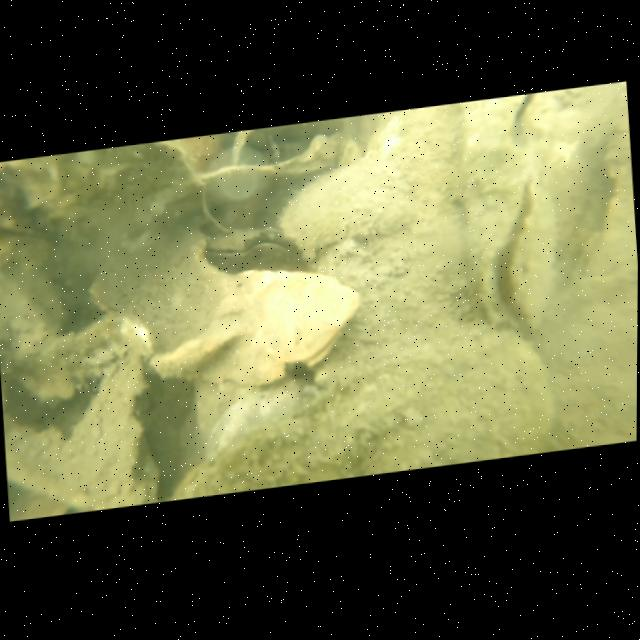Oyster-Closed: (145, 258, 366, 403)
Oyster-Indeterminate: (161, 319, 556, 501), (272, 102, 469, 254)
Oyster-Open: (461, 164, 565, 344), (199, 218, 296, 268)
